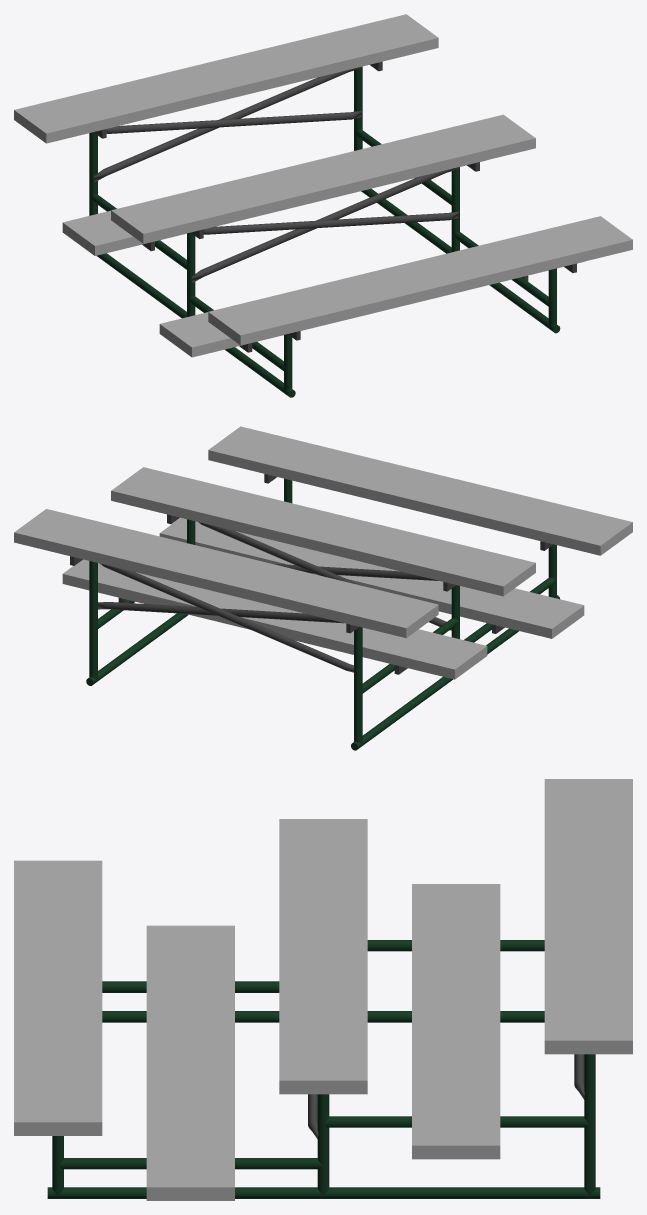
The model's file is ART-MOD-A-BLEACHERS-001.FBX.
3 renders of one model, top to bottom at view 1: azimuth 30°, elevation 25°; view 2: azimuth 150°, elevation 25°; view 3: azimuth 270°, elevation 25°, orthographic. The views are drawn at different scales.
Parts seen in each view (by area): view 1: Box001; view 2: Box001; view 3: Box001.
Part boxes in pixels (x1,y1,x2,y2): Box001: (14, 14, 632, 397); Box001: (14, 426, 632, 750); Box001: (14, 779, 632, 1200).
Bounding box in the file's own units: 140 × 50 × 140.
